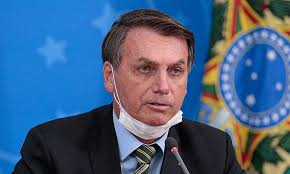mask_weared_incorrect: (107, 37, 192, 141)
